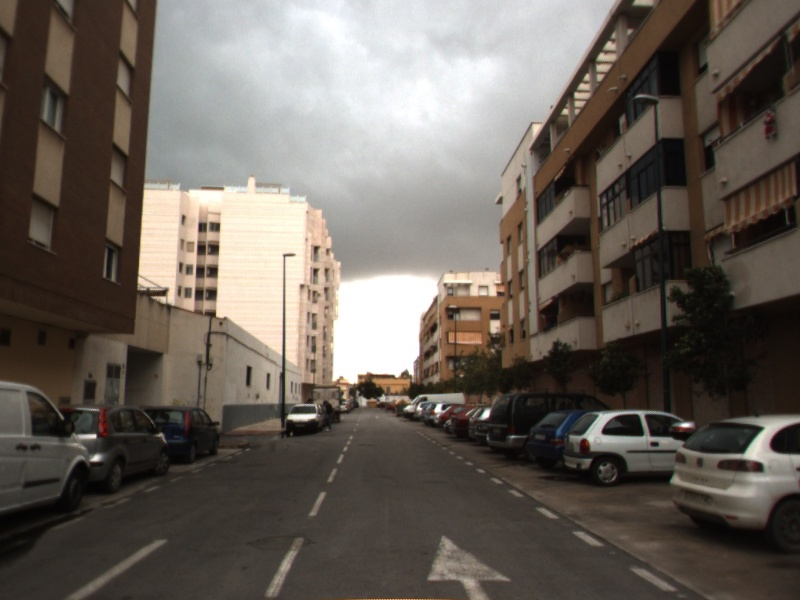STRAIGHT: (424, 532, 516, 600)
